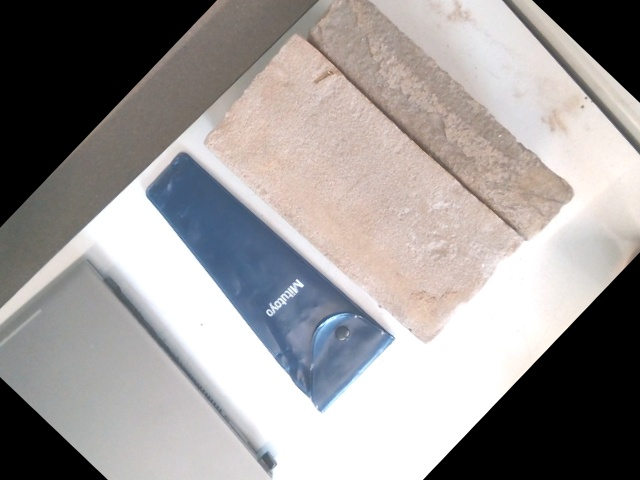brick: (201, 37, 520, 340)
